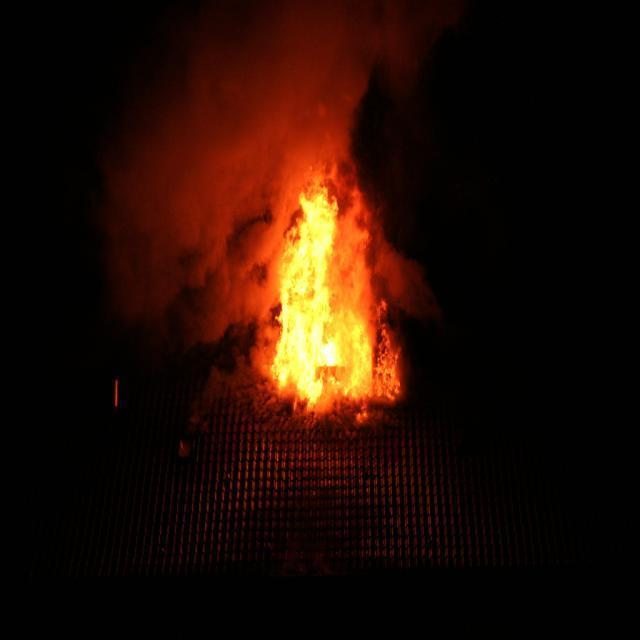Fire: (252, 152, 366, 406)
Smoke: (132, 0, 292, 324)
